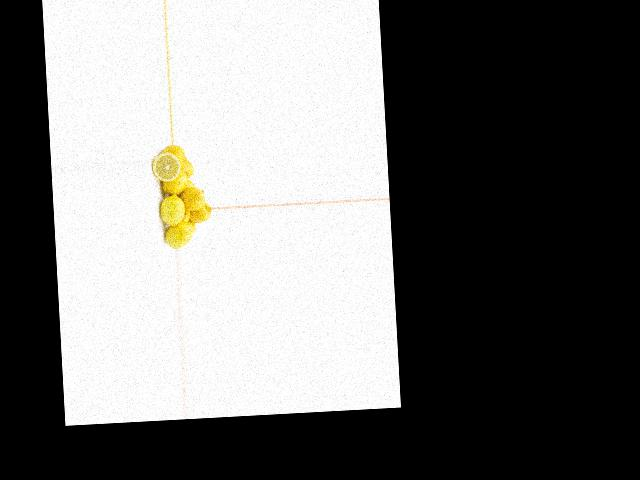lemon: (161, 145, 185, 168)
